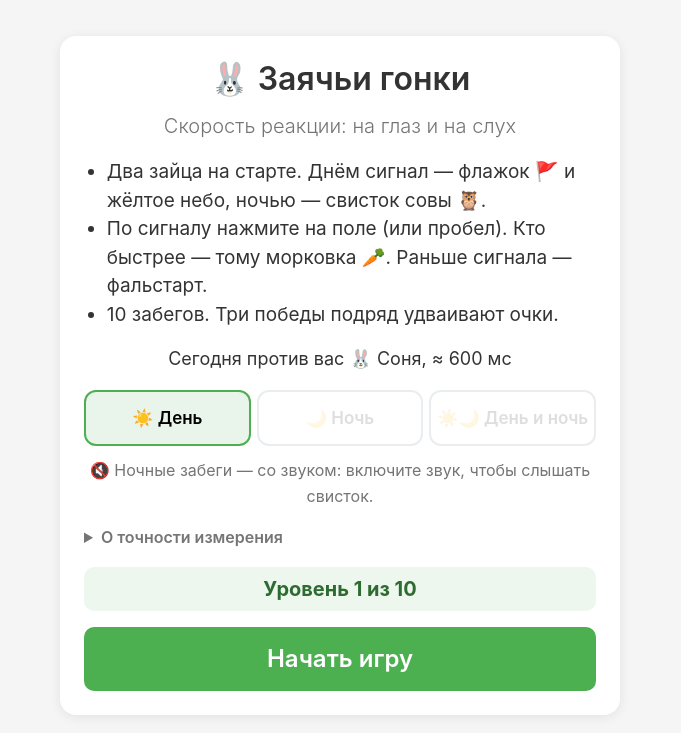
Test case: Hare Race › a tap before the signal is a false start; held keys do not repeat
Step 1. Click the button "Начать игру" → x=340, y=659, box 84,627 -> 596,691
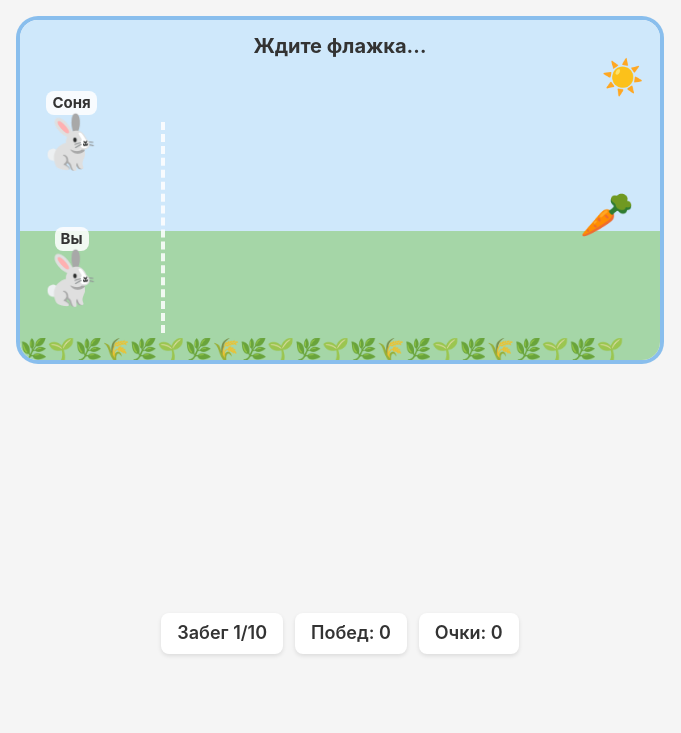
Step 2. Press Space
Check: the text "Ждите флажка…" is shown, box 253,34 -> 427,58
Step 3. Press Space
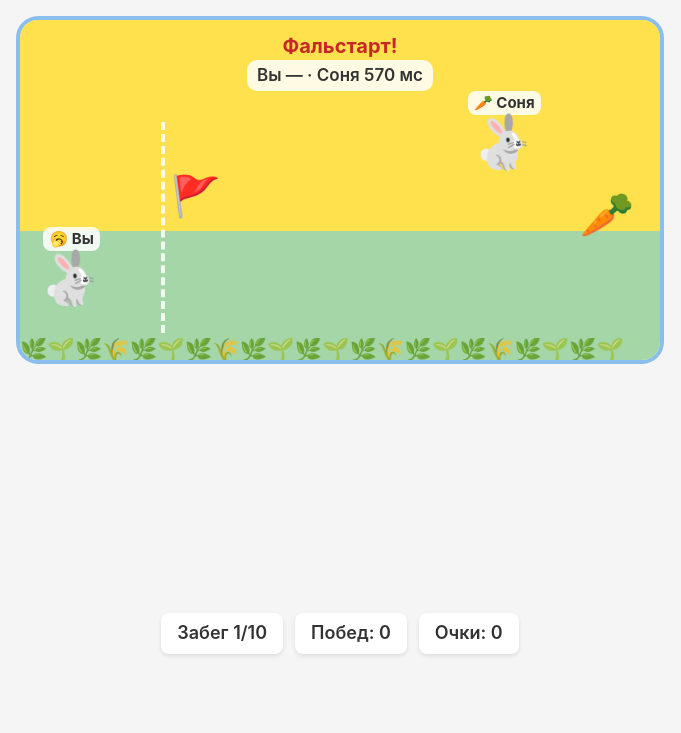
Check: the text "Фальстарт!" is shown, box 282,34 -> 398,58
